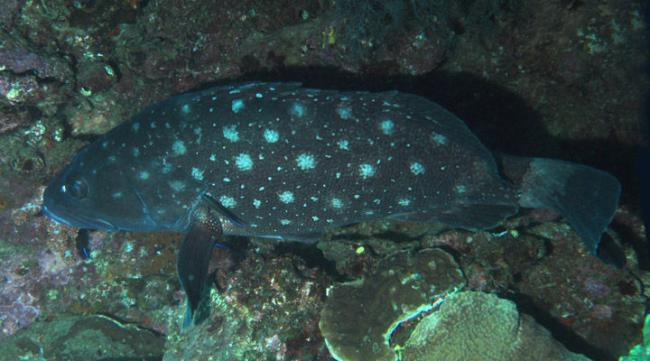fish: (43, 81, 622, 329)
